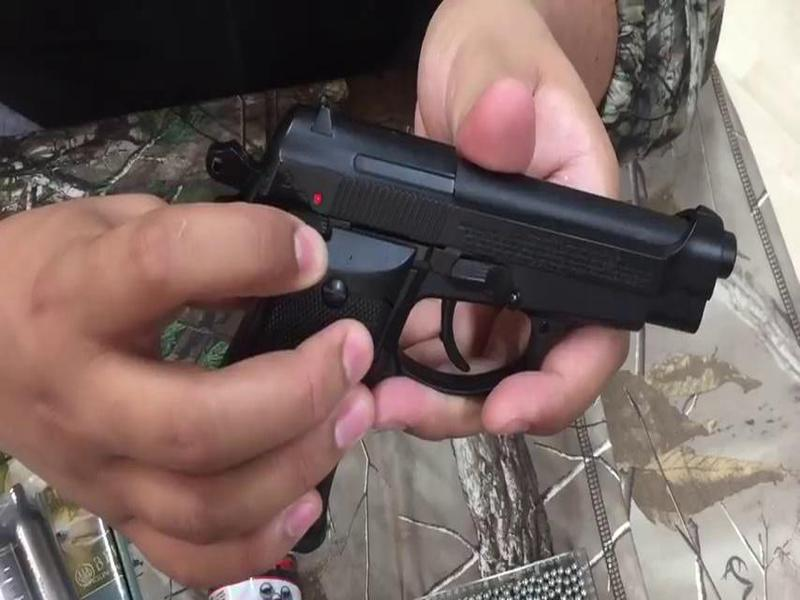Pistola: (217, 87, 747, 552)
